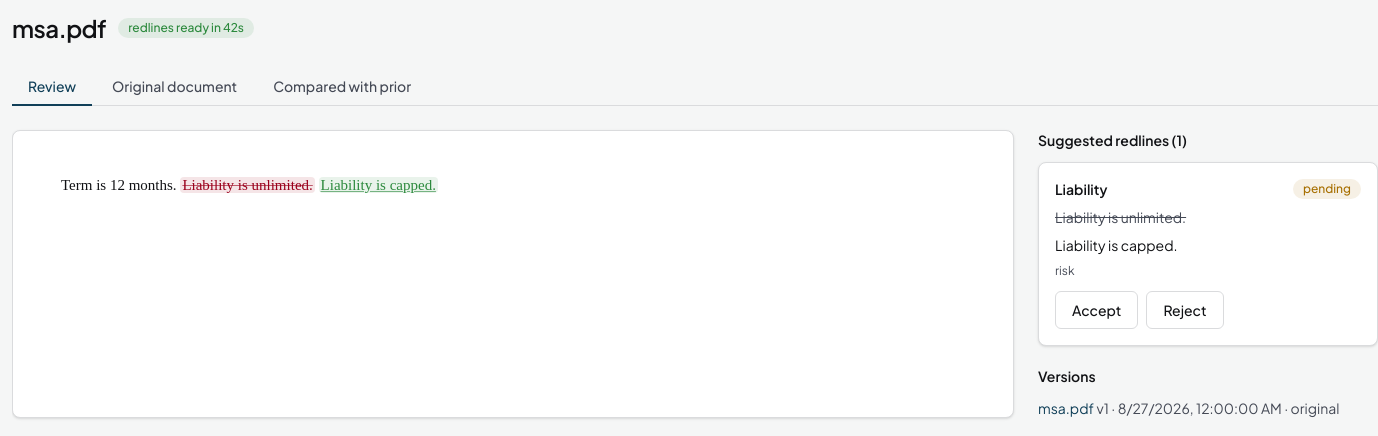
Scenario: comparison tab shows the failed empty state
Click the tab "Compared with prior" at (342, 87), box [257,68,427,106]
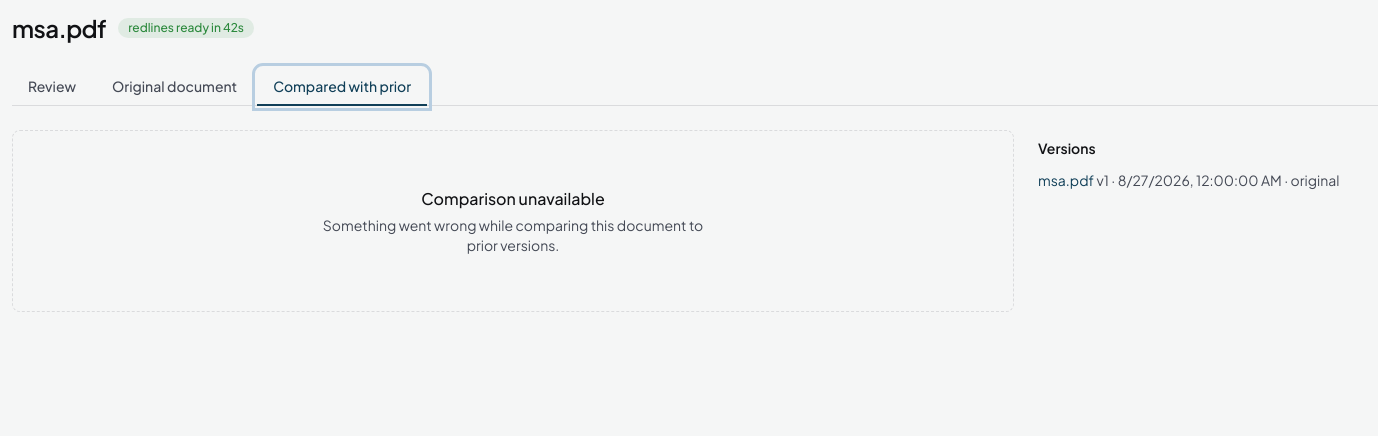
expect the text "Comparison unavailable" is shown: met, box [421,187,605,211]
